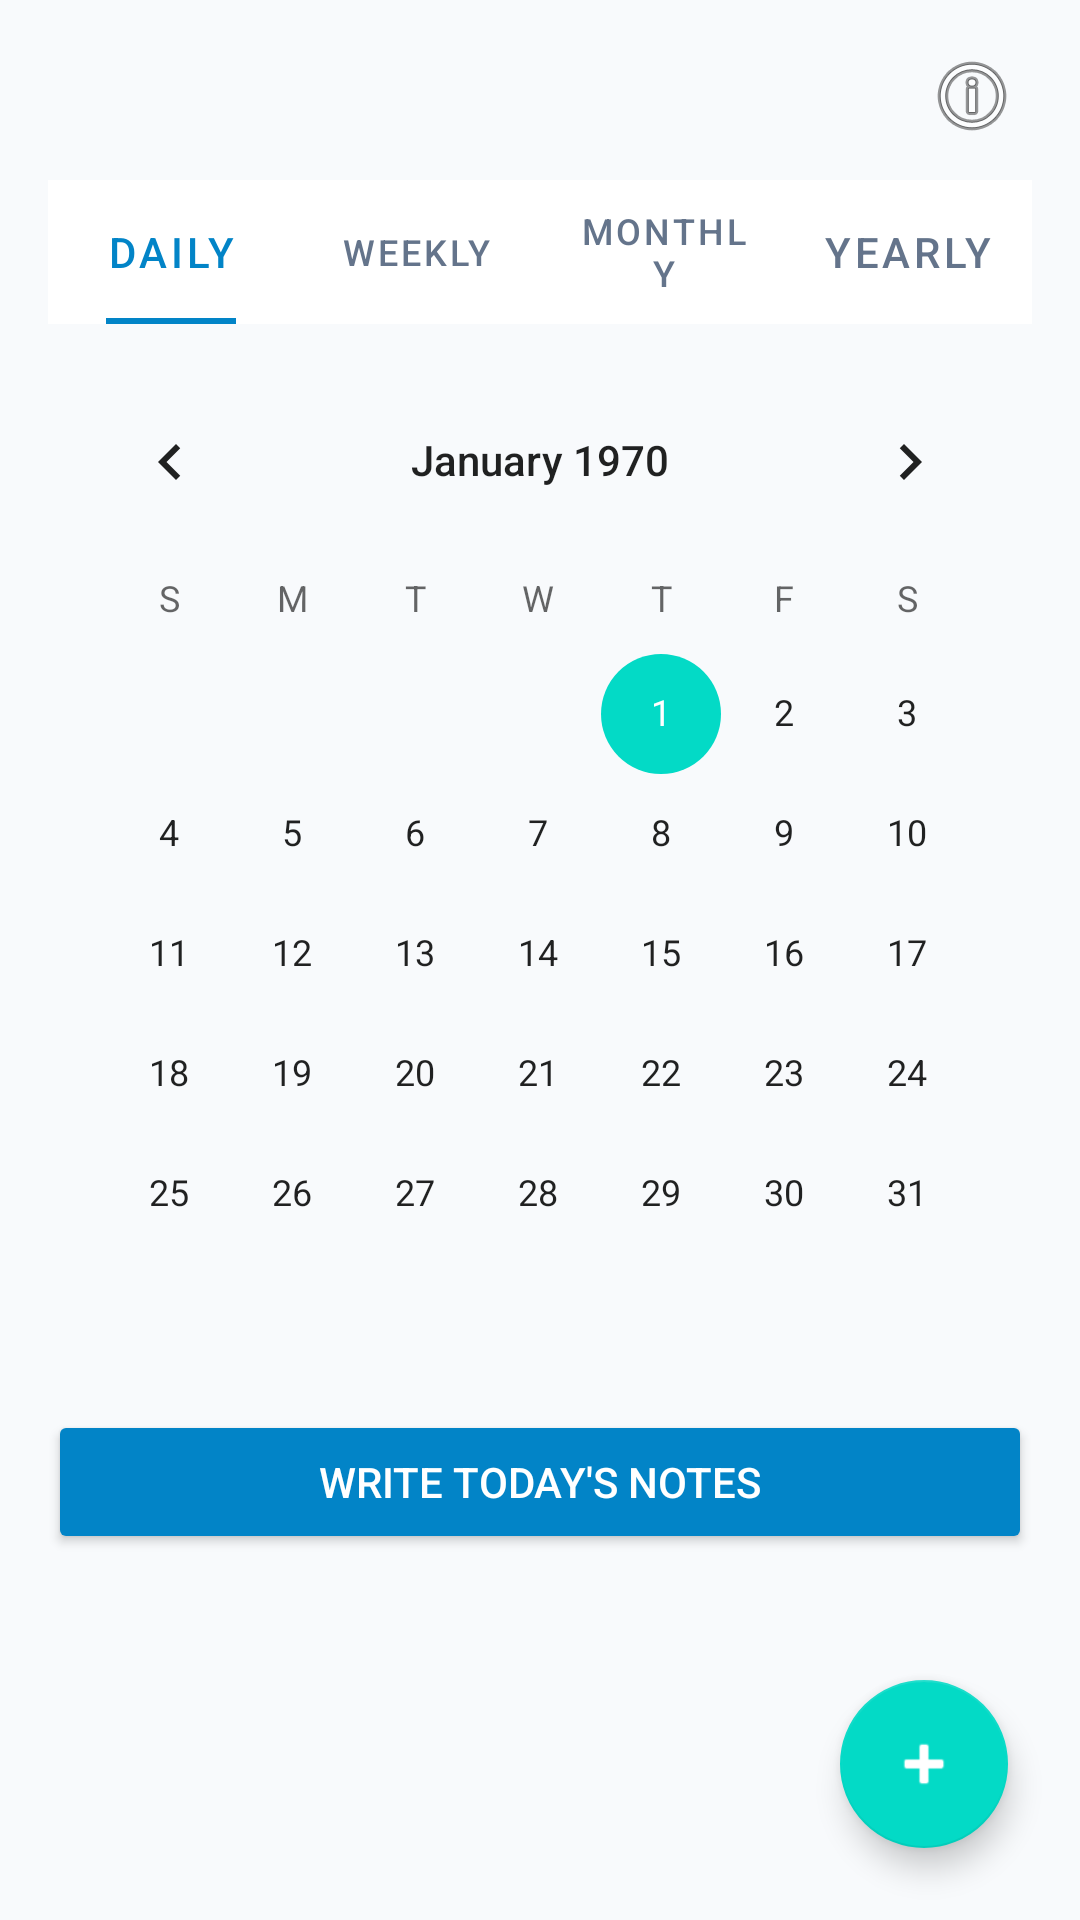

Icons on this 1080x1920 Android screen, each with the point to tap as point (x, y):
Add Task: point (924, 1764)
